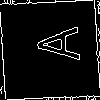A: (25, 25, 81, 62)
